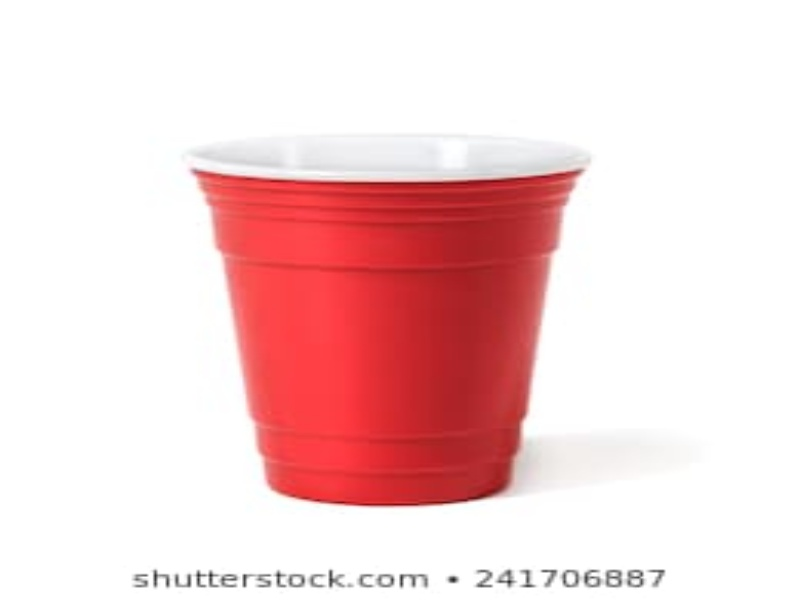plastic-cup: (180, 129, 598, 507)
